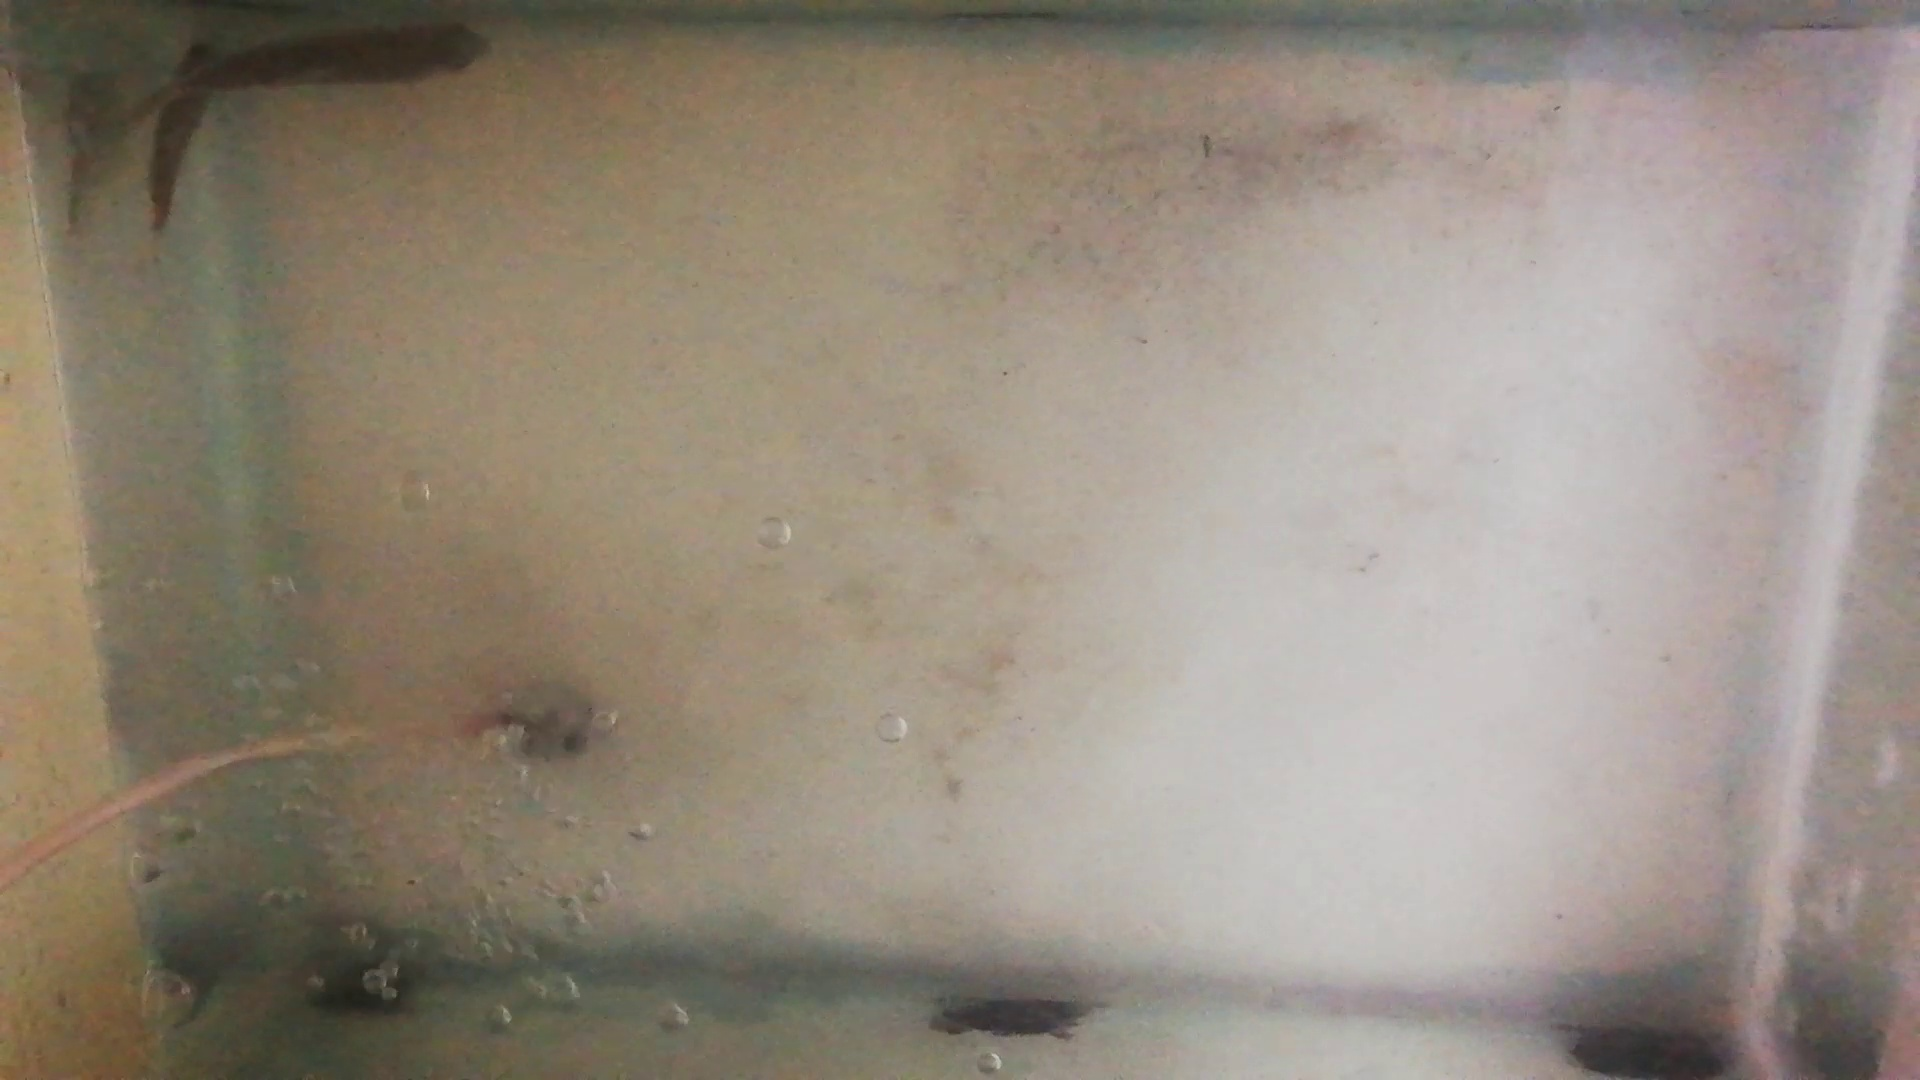fish: (156, 21, 495, 109), (149, 41, 216, 232)
